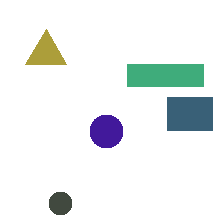circle: (90, 115, 122, 147), (49, 192, 71, 214)
rectangle: (127, 64, 203, 86), (167, 97, 212, 130)
triangle: (25, 29, 66, 64)
